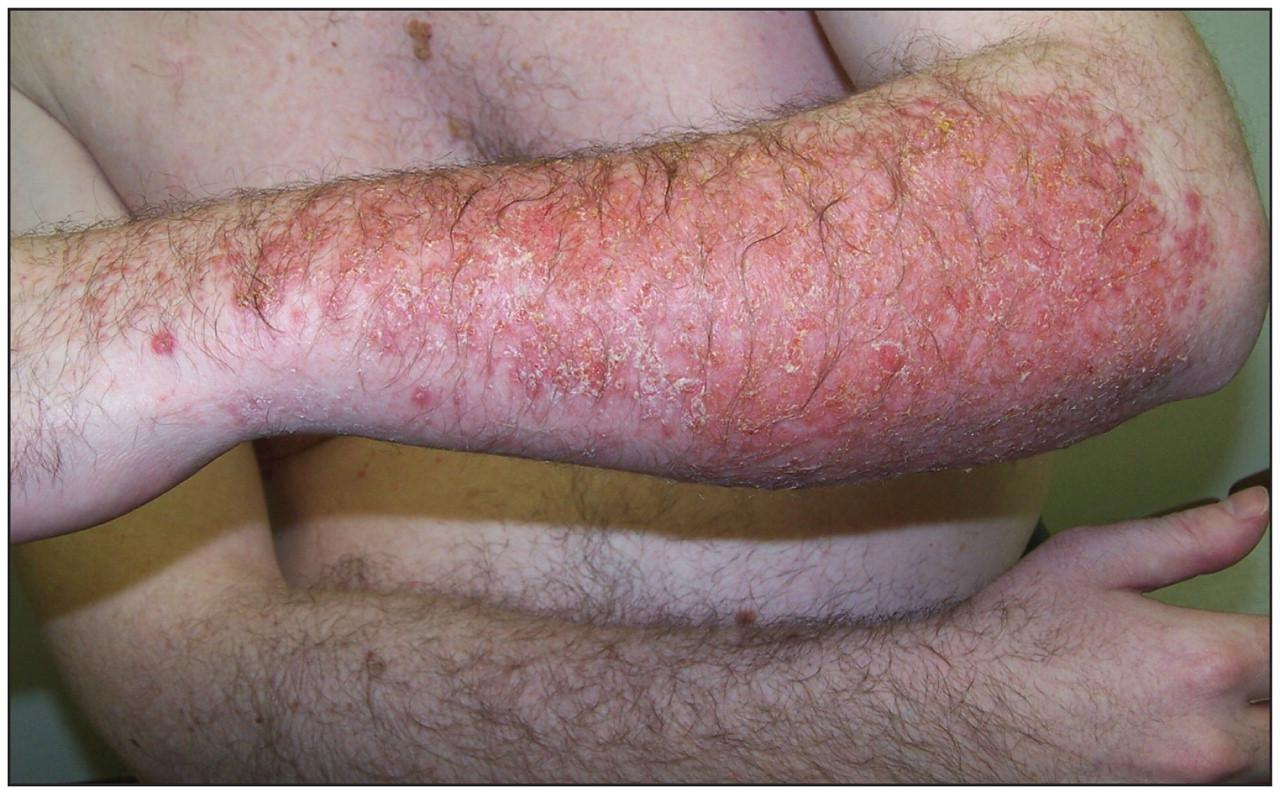Eczema: (262, 176, 1057, 419)
